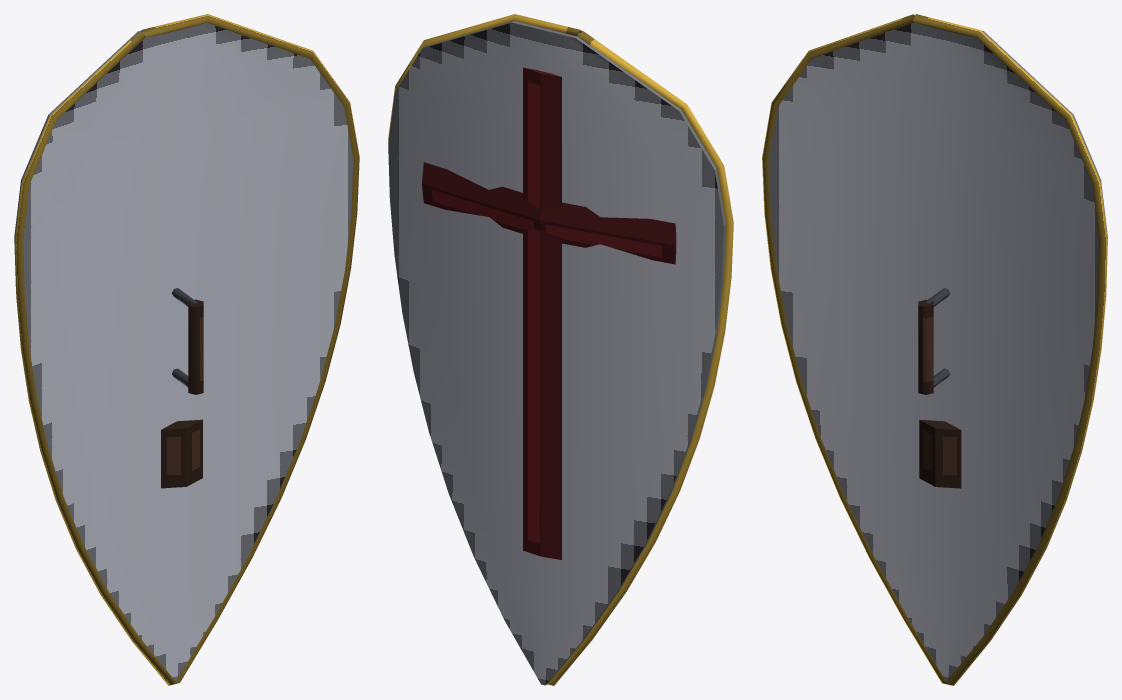
File: templar_kite.glb
The picture shows the model from 3 angles, left to right: view 1: azimuth 30°, elevation 25°; view 2: azimuth 150°, elevation 25°; view 3: azimuth 330°, elevation 25°; orthographic projection.
Visible parts, largest first — view 1: templar_kite; view 2: templar_kite; view 3: templar_kite.
Part boxes in pixels (x1,y1,x2,y2): templar_kite: (14,14,359,685); templar_kite: (388,14,733,685); templar_kite: (762,14,1107,685).
Size of the model in its own units: 0.4939 by 0.9053 by 0.0835.
Materials: 1 (1 with a texture image).
